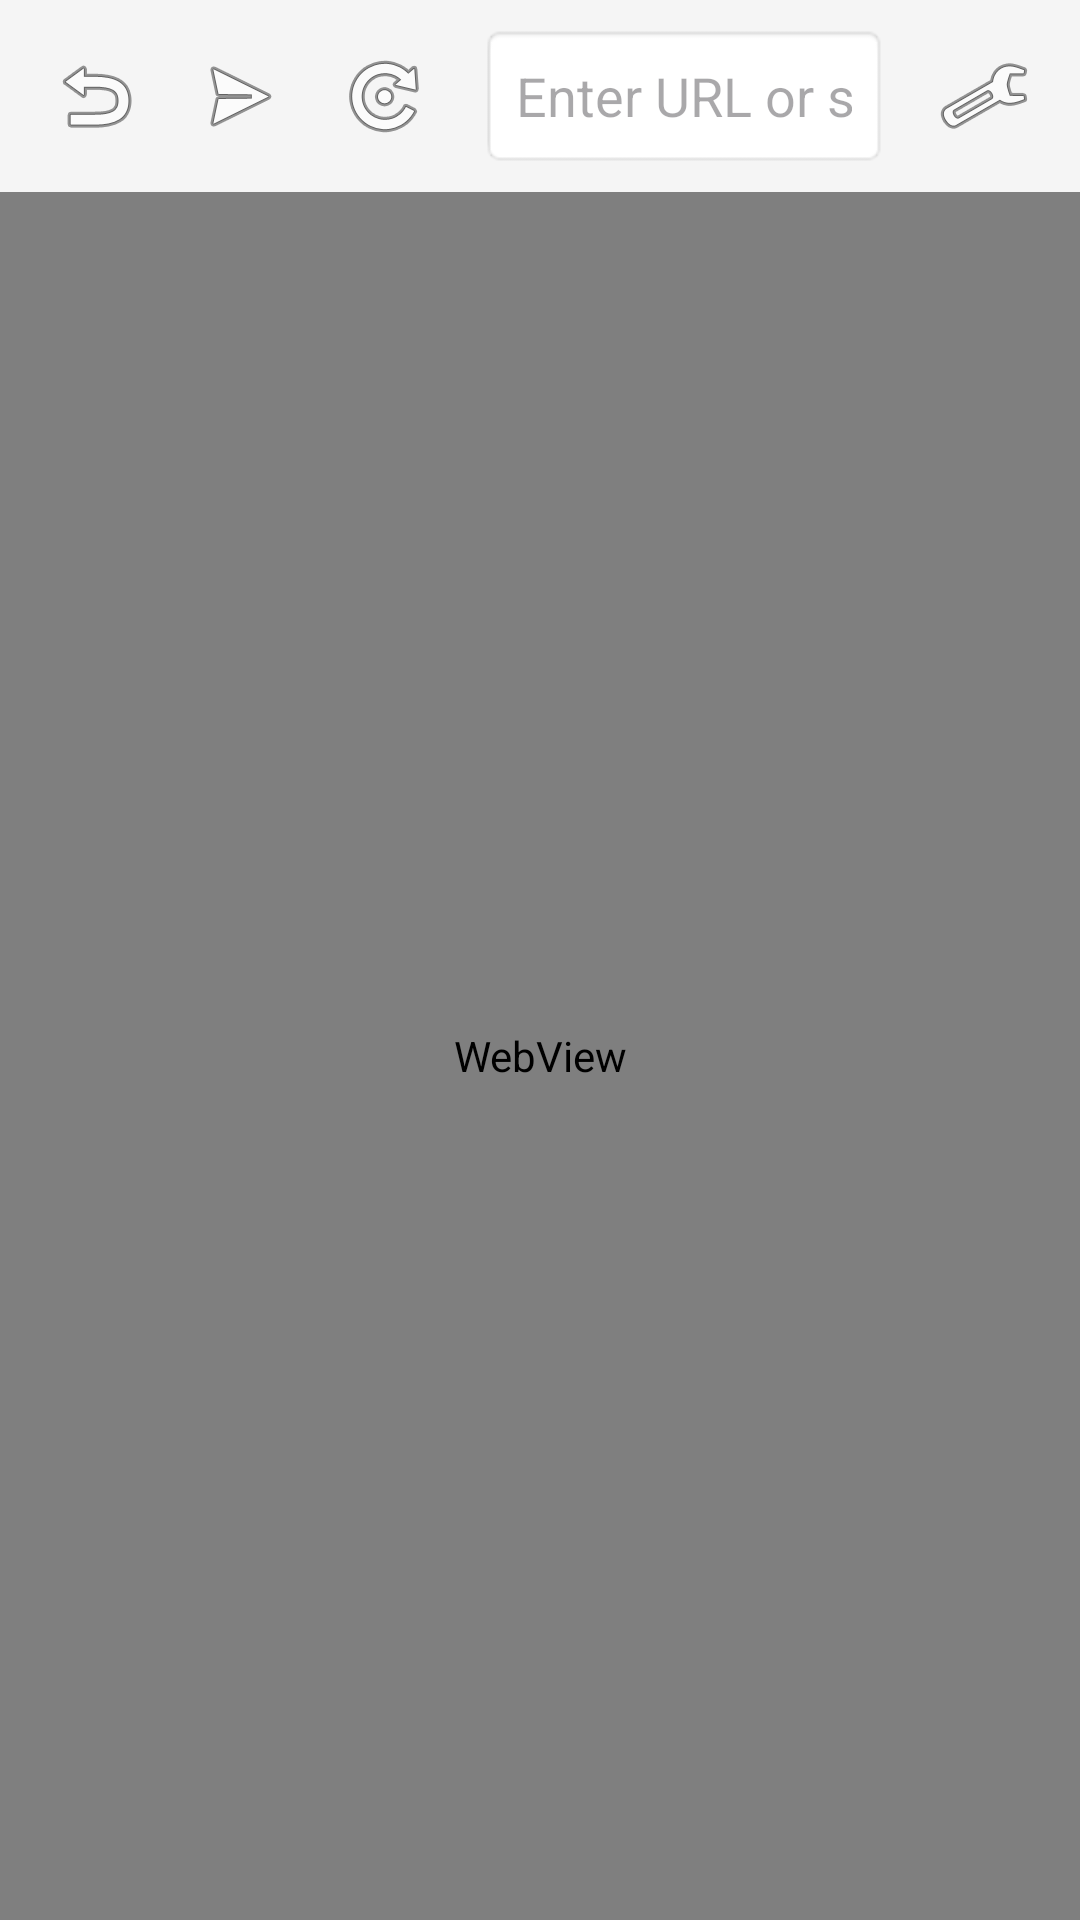

Point at icon controls on the screen. Image size 1080*1920, points as (x=x, y=y).
Back: (x=97, y=96)
Forward: (x=241, y=96)
Refresh: (x=384, y=96)
